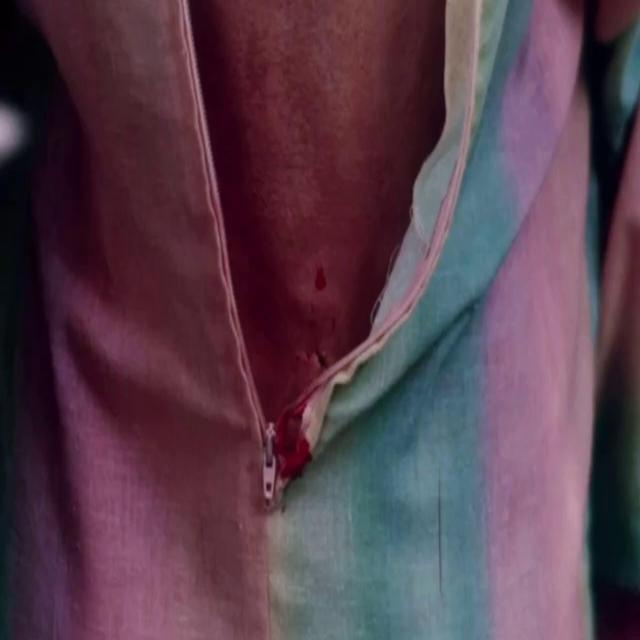flood: (249, 398, 332, 497)
